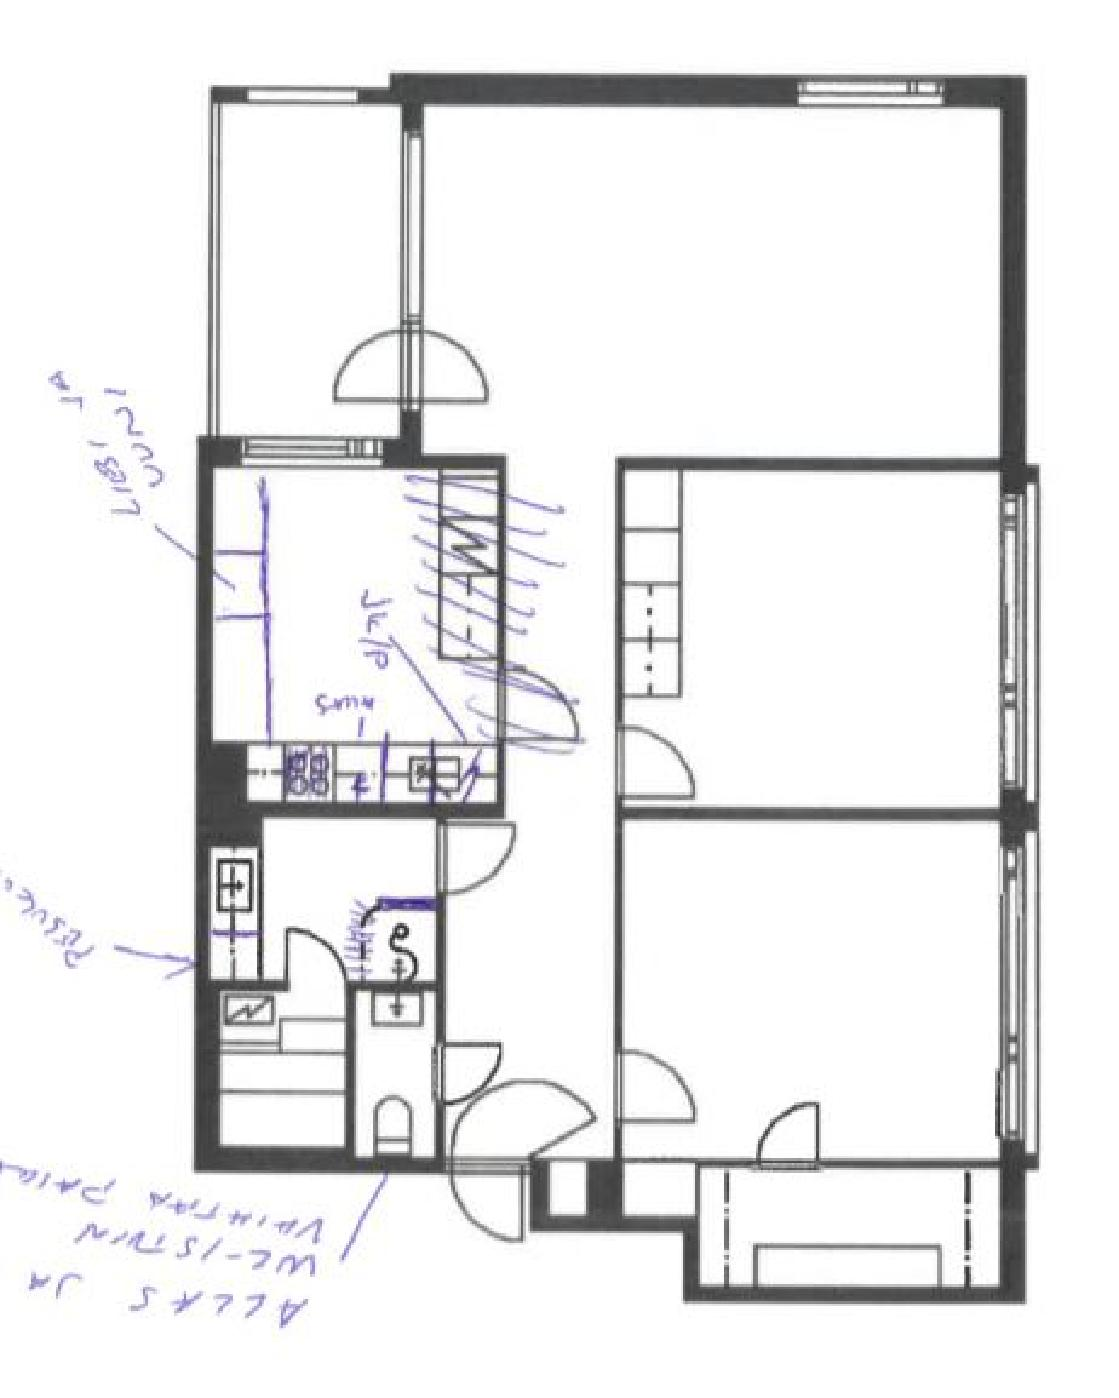door: (422, 101, 1023, 1166), (626, 813, 1003, 1158), (625, 471, 1003, 803), (210, 467, 489, 806), (209, 813, 440, 1152), (216, 98, 410, 439), (626, 1163, 1003, 1285), (356, 993, 435, 1151)
window: (446, 1078, 589, 1246), (335, 334, 491, 405), (613, 1055, 697, 1142), (618, 728, 697, 804), (750, 1092, 826, 1172), (440, 821, 516, 895), (434, 1039, 509, 1103)
zone: (1000, 828, 1046, 1154), (995, 484, 1040, 797), (234, 436, 383, 463), (800, 82, 941, 109)
